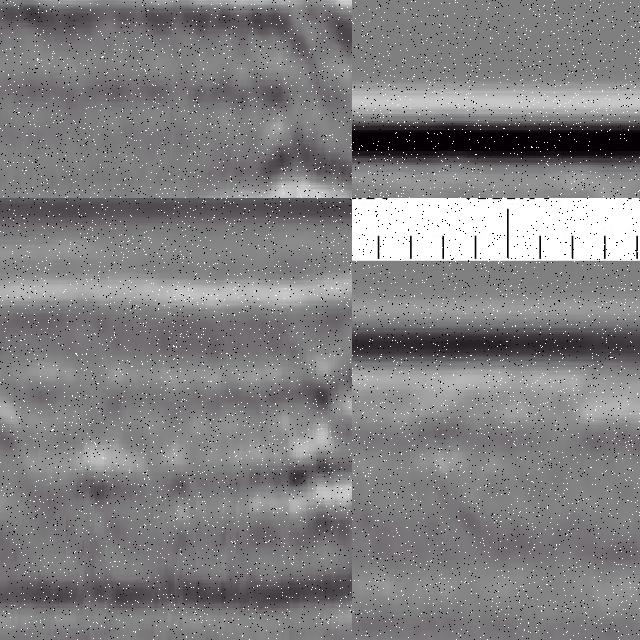crack: (353, 391, 368, 640)
loose: (227, 1, 353, 199), (272, 346, 353, 543)
